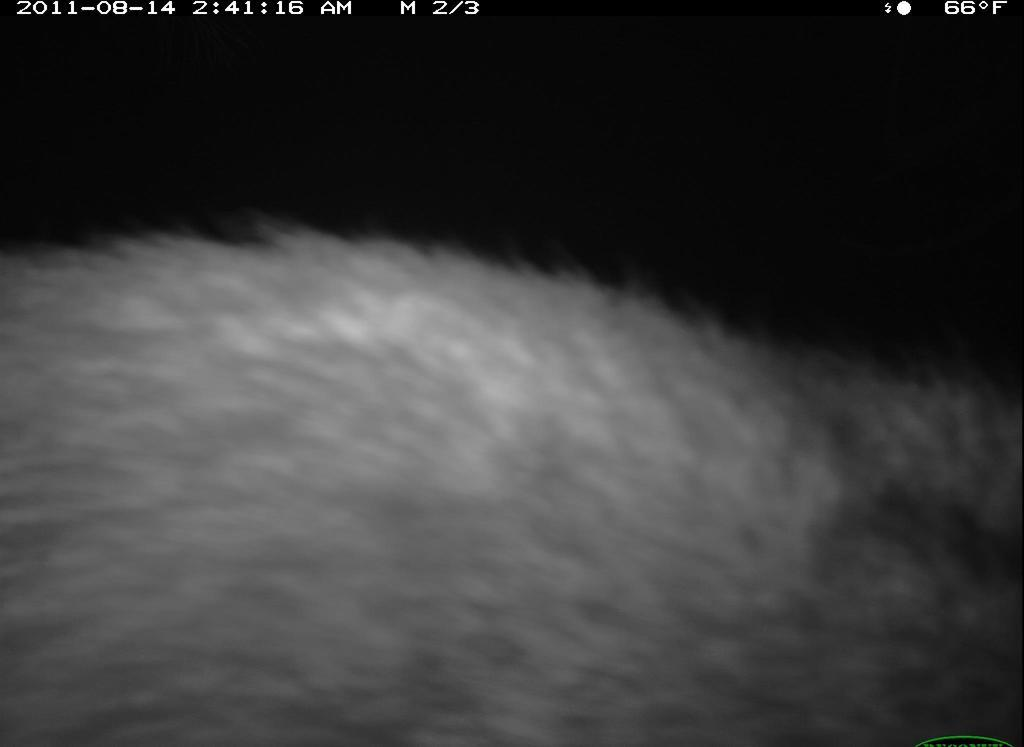raccoon: (5, 211, 1024, 747)
